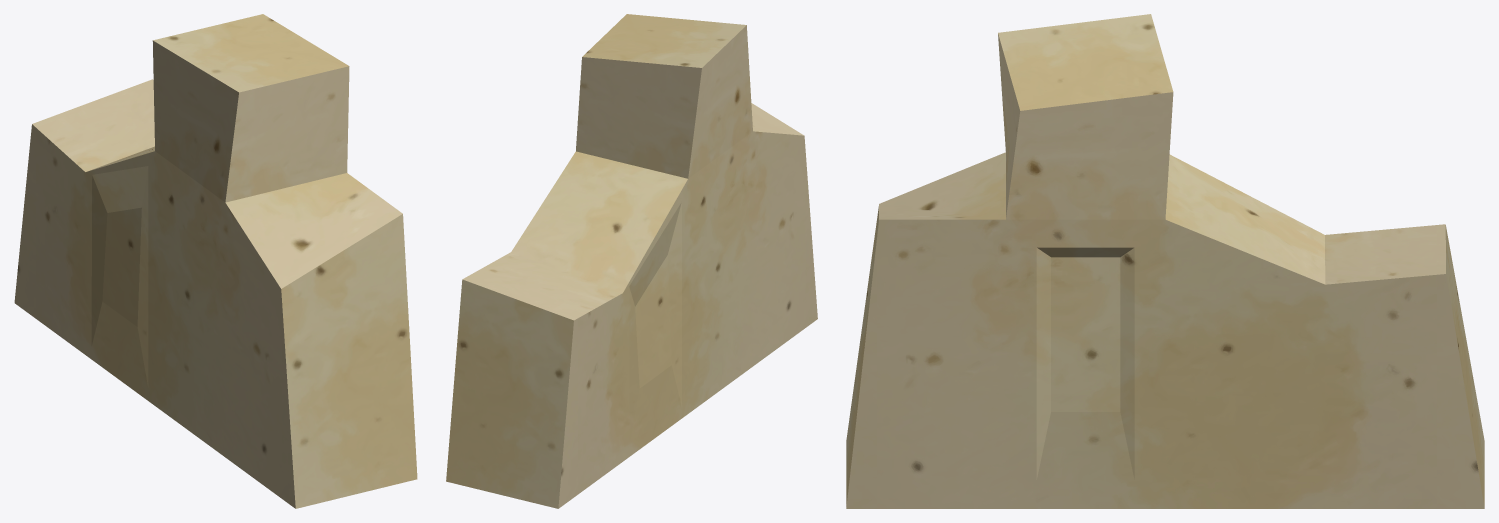
File: ruines_vol2.fbx
3 views of the same model, side by side, from view 1: azimuth 30°, elevation 25°; view 2: azimuth 150°, elevation 25°; view 3: azimuth 270°, elevation 25° (orthographic). The views are drawn at different scales.
Parts seen in each view (by area): view 1: Cube.001; view 2: Cube.001; view 3: Cube.001.
Boxes of the visible parts, x1,y1,x2,y2 form: Cube.001: [14, 14, 417, 508]; Cube.001: [446, 14, 817, 508]; Cube.001: [846, 14, 1484, 508].
Size of the model in its own units: 400 by 114 by 292.
1 material, 1 textured.
